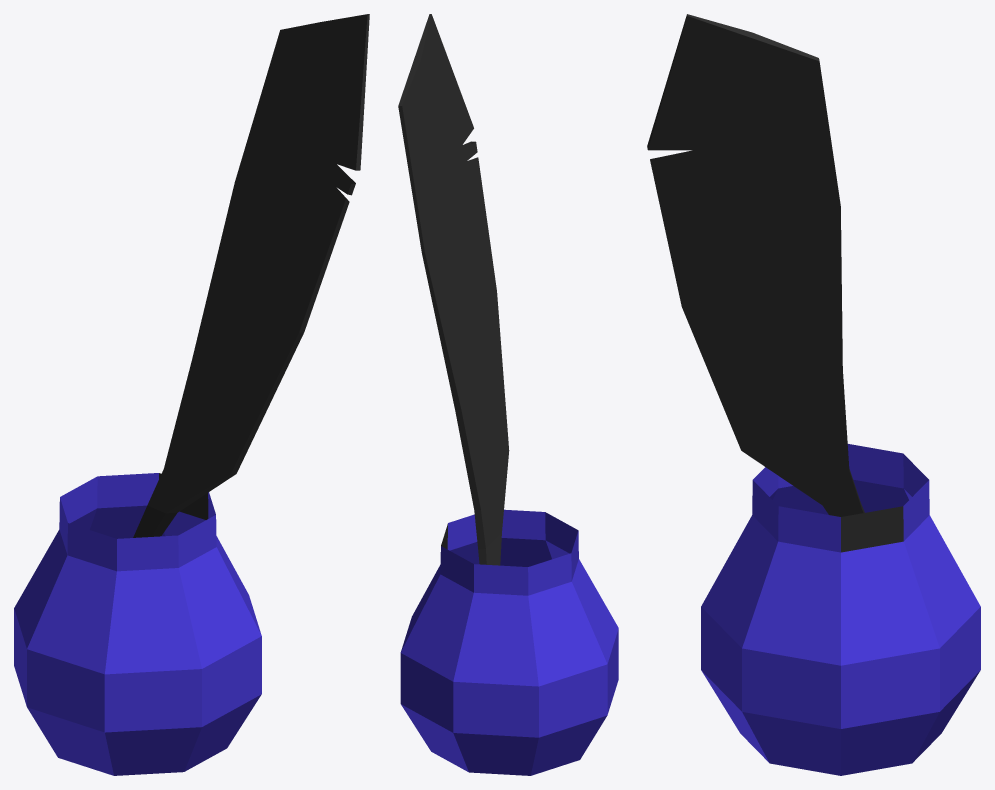
File: pluma_002.fbx
3 views of the same model, side by side, from view 1: azimuth 30°, elevation 25°; view 2: azimuth 150°, elevation 25°; view 3: azimuth 270°, elevation 25° (orthographic). The views are drawn at different scales.
Parts seen in each view (by area): view 1: pluma.002; view 2: pluma.002; view 3: pluma.002.
Boxes of the visible parts, bbox=[...] form: pluma.002: bbox=[14, 14, 369, 775]; pluma.002: bbox=[398, 14, 618, 775]; pluma.002: bbox=[647, 14, 980, 775].
Bounding box in the file's own units: 16.24 × 41.97 × 15.79.
